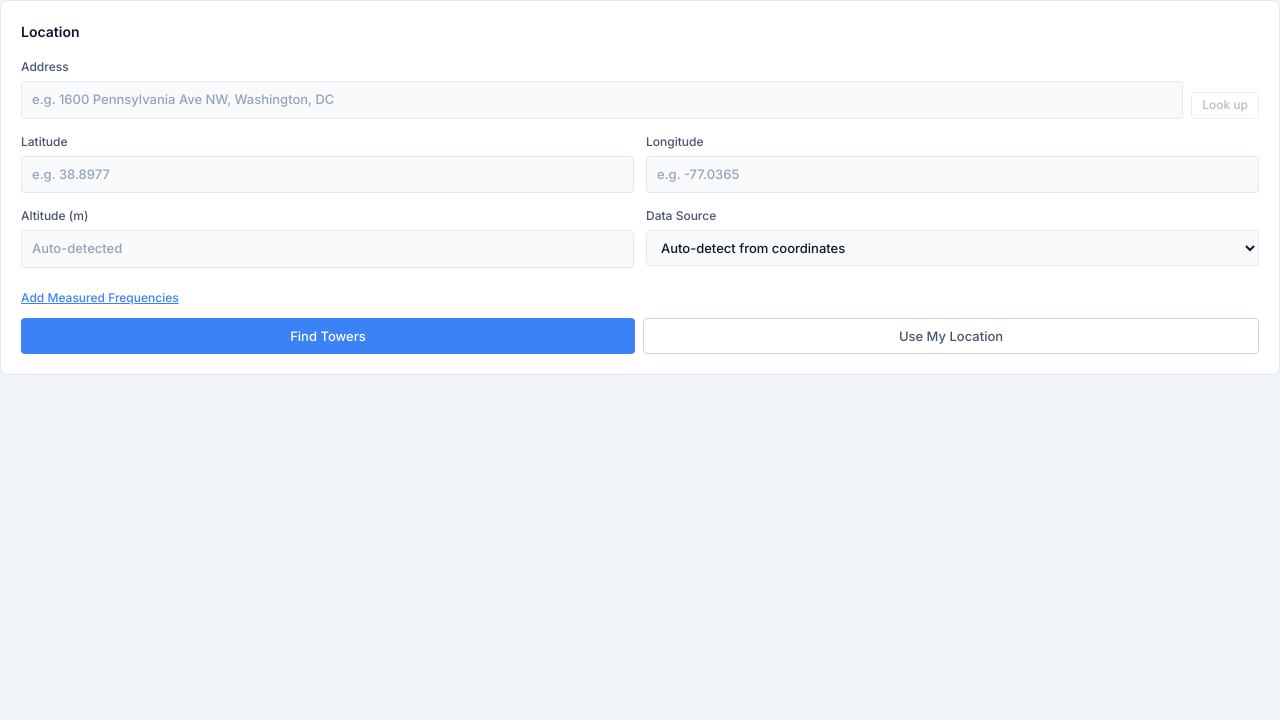
it: SearchForm measured frequencies › removes the row the operator asked to remove, keeping the others' values
Step 1. Click the button "Add Measured Frequencies" → [100, 298], box [21,288,179,306]
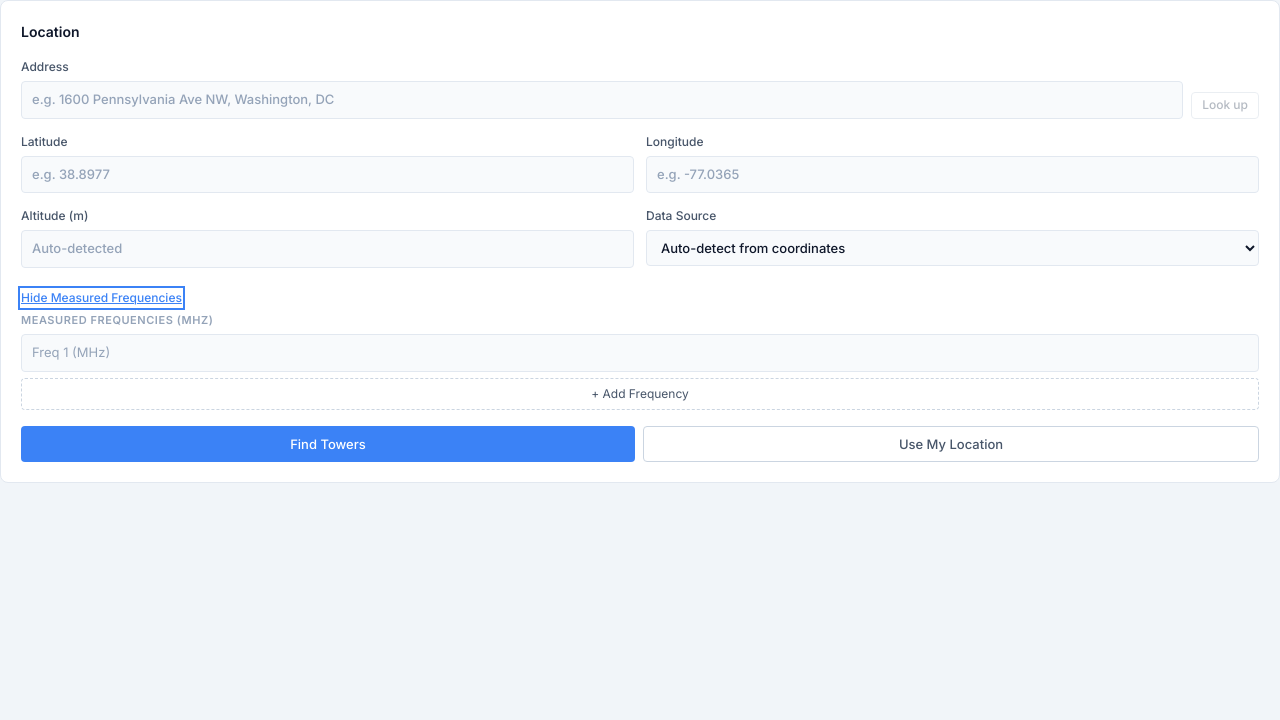
Step 2. Click the button "+ Add Frequency" → [640, 394], box [21,378,1259,410]
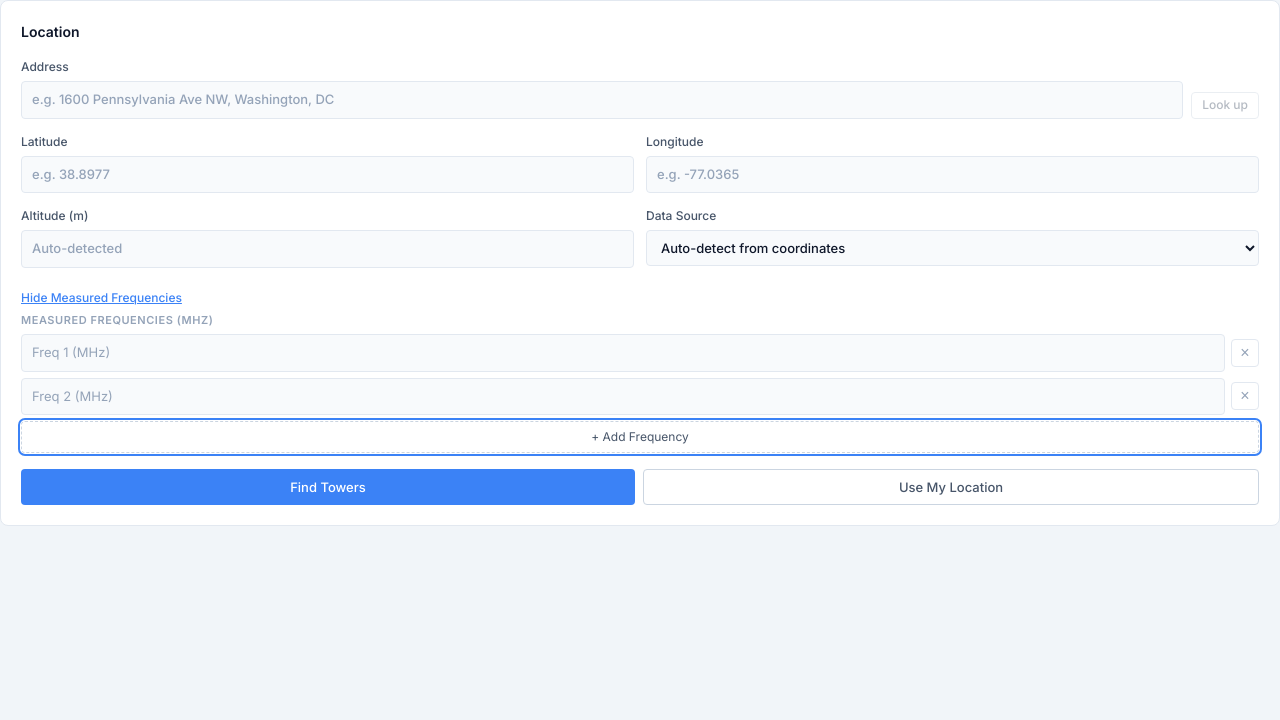
Step 3. Type "95.5" into the number field named "frequency 1" → [623, 353], box [21,334,1225,372]
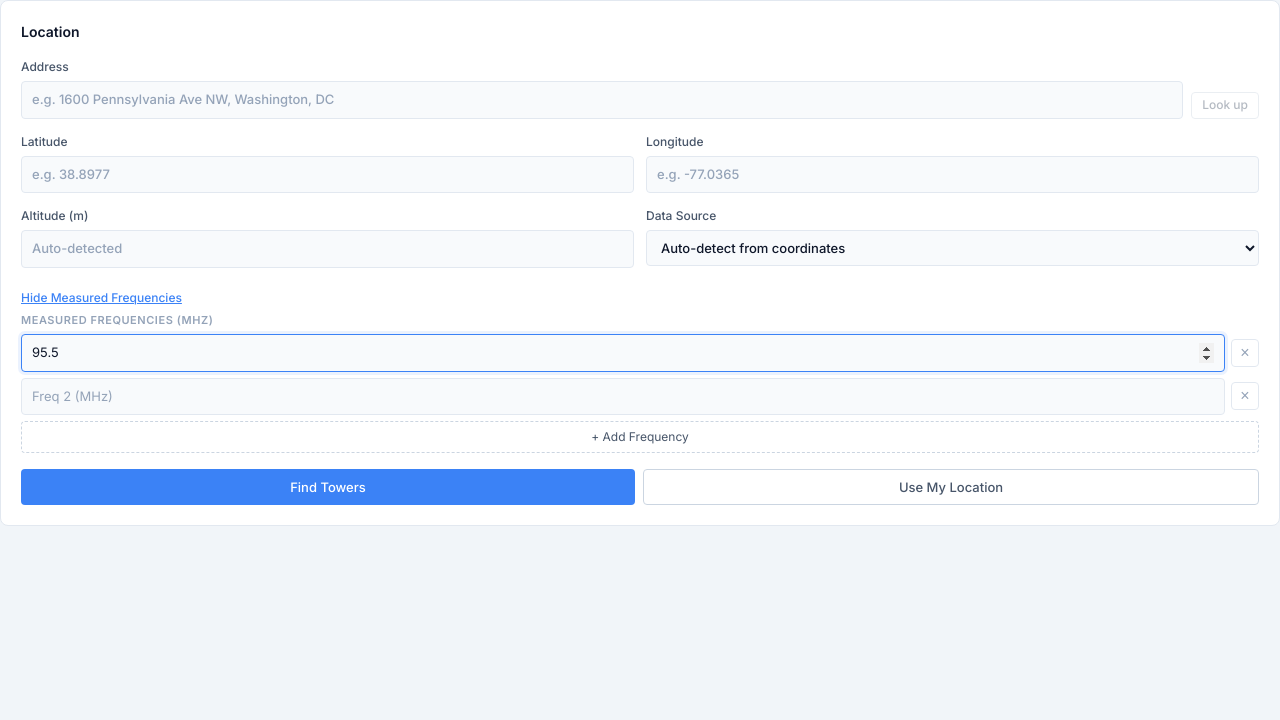
Step 4. Type "101.1" into the number field named "frequency 2" → [623, 396], box [21,378,1225,415]
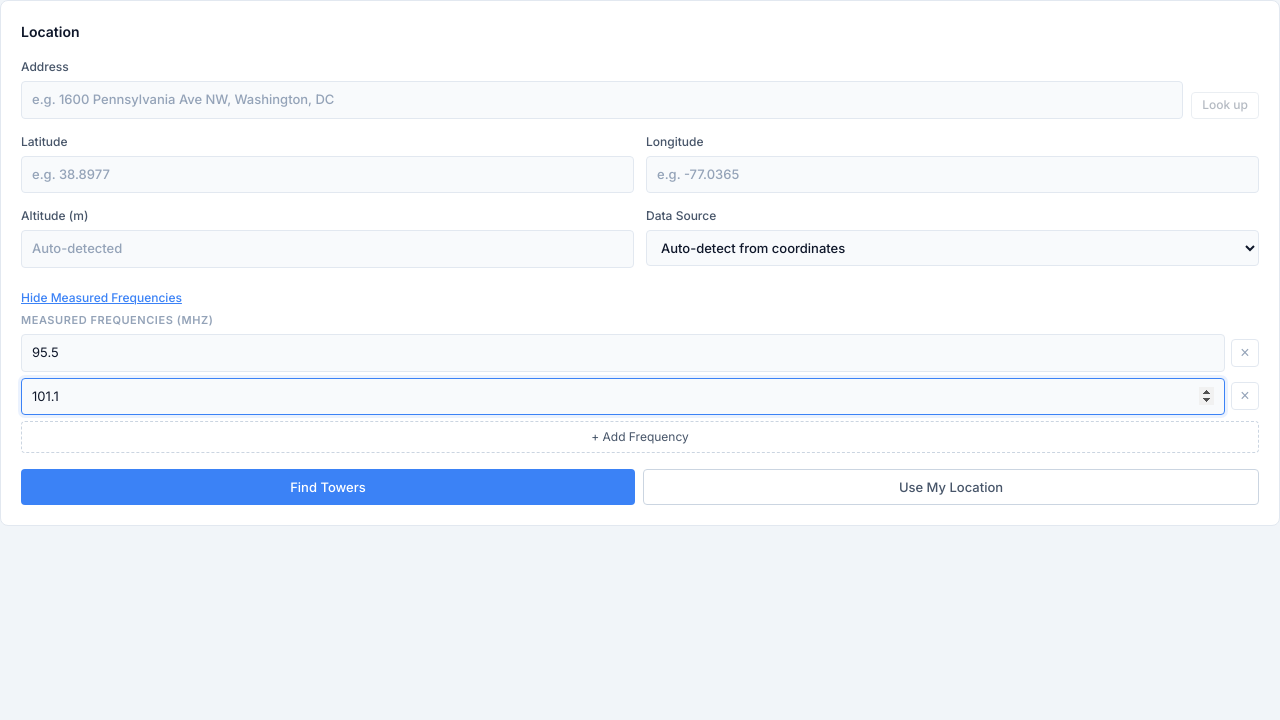
Step 5. Click the button named "remove frequency 1" → [1245, 353], box [1231,339,1259,367]
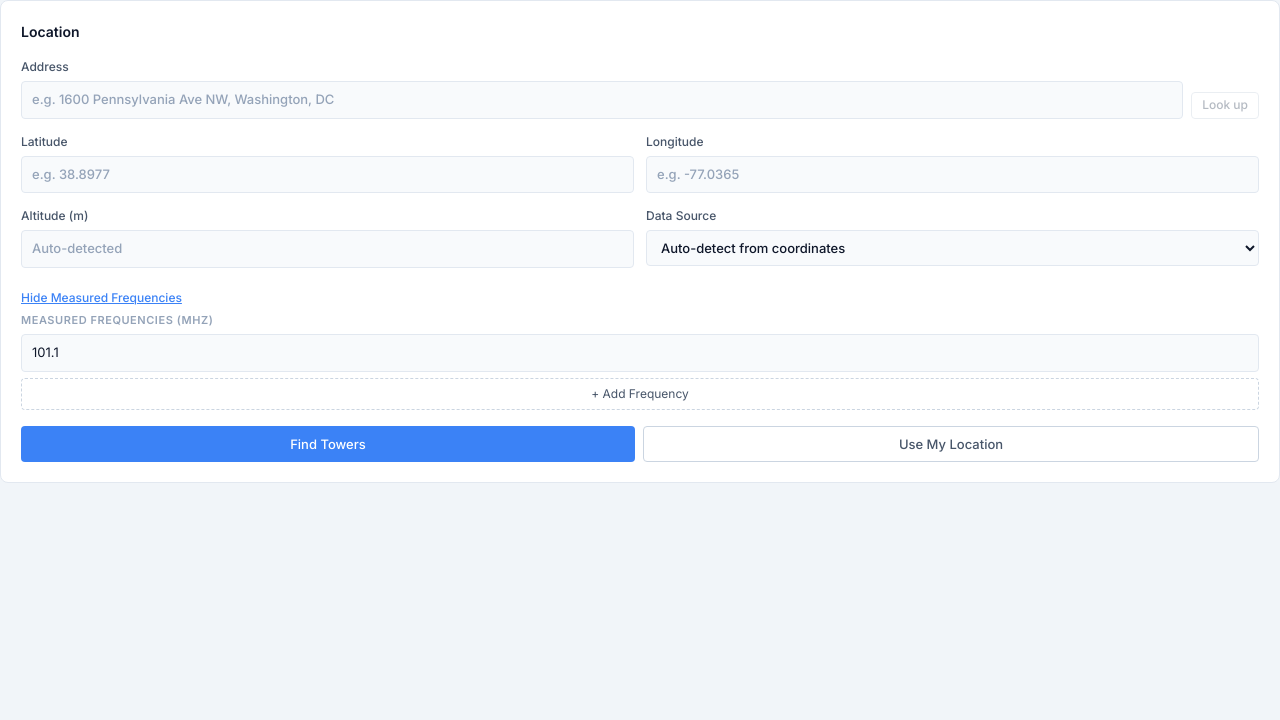
Check: the number field named "frequency 1" holds "101.1", box [21,334,1259,372]
